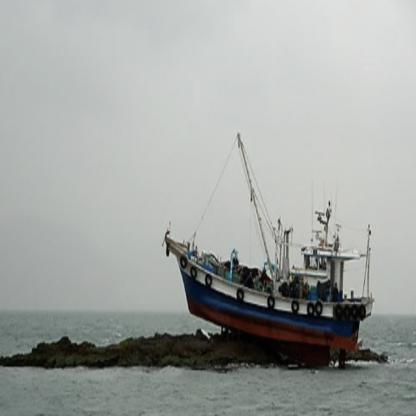fish-b: (161, 112, 382, 380)
